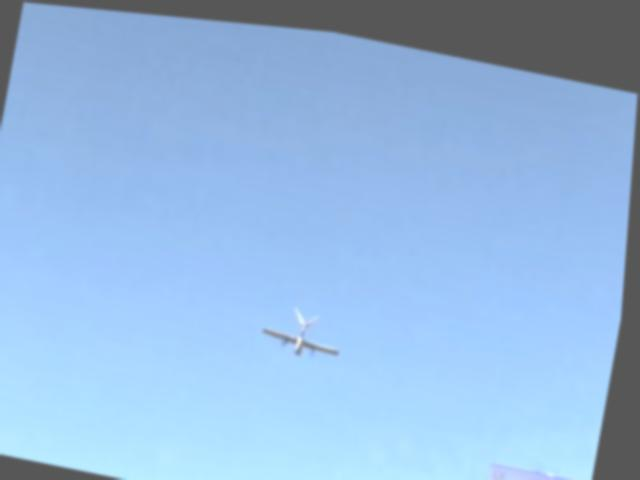uav: (259, 290, 356, 359)
